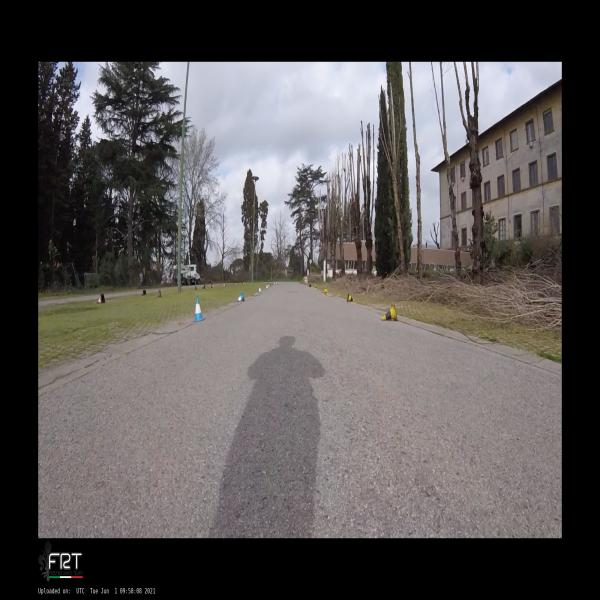blue_cone: (194, 296, 206, 321), (236, 293, 245, 302), (258, 286, 262, 294), (266, 284, 268, 290)
orange_cone: (97, 294, 105, 303)
unknown_cone: (157, 288, 162, 298), (141, 290, 147, 296), (202, 284, 206, 289), (195, 284, 197, 290), (211, 284, 214, 288), (309, 284, 311, 288)
yellow_cone: (381, 304, 398, 321), (346, 293, 354, 302), (324, 290, 328, 295), (314, 284, 317, 290)
